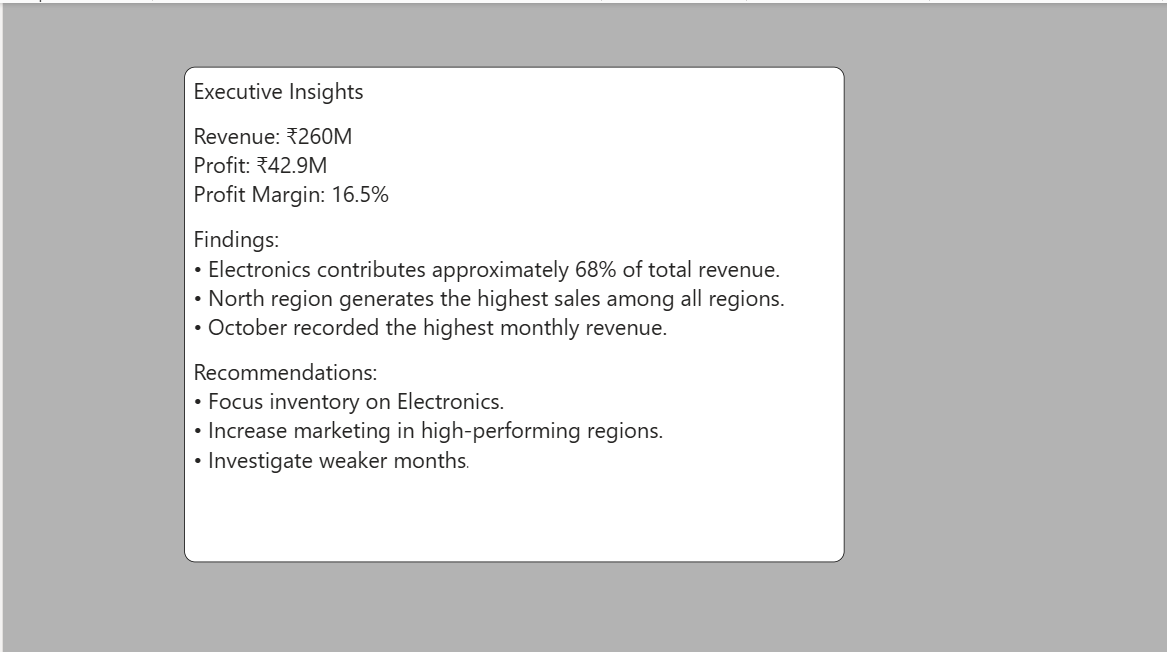

Layout of this report page (visuals, bound fields, positions):
{"tool":"powerbi","page":{"name":"Businness Insights","canvas":[1280,720],"ordinal":2},"visuals":[{"type":"textbox","box":[198.8,70,725,543.8],"z":0}]}

Visuals, with their boxes in screenshot pixels (x1, y1, x2, y2), scaled from the page's 1280x720 canvas onto the 1167x652 screenshot:
textbox: [181,63,842,556]
